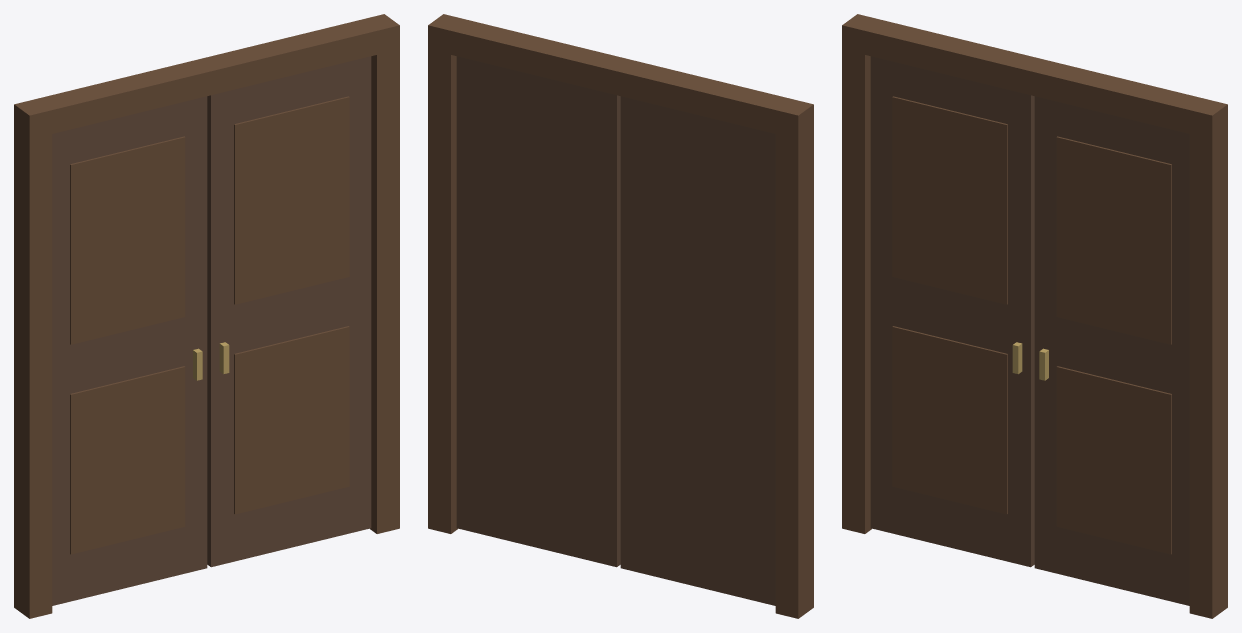
Rendered from door.glb.
3 views of the same model, side by side, from view 1: azimuth 30°, elevation 25°; view 2: azimuth 150°, elevation 25°; view 3: azimuth 330°, elevation 25° (orthographic).
Parts seen in each view (by area): view 1: DoorLeaf_R, DoorLeaf_L, DoorFrame; view 2: DoorLeaf_R, DoorLeaf_L, DoorFrame; view 3: DoorLeaf_L, DoorLeaf_R, DoorFrame.
Boxes of the visible parts, x1=… form: DoorLeaf_R: x1=207, y1=56, x2=371, y2=567; DoorLeaf_L: x1=52, y1=96, x2=207, y2=605; DoorFrame: x1=14, y1=14, x2=399, y2=618; DoorLeaf_R: x1=456, y1=56, x2=620, y2=567; DoorLeaf_L: x1=620, y1=96, x2=775, y2=605; DoorFrame: x1=428, y1=14, x2=813, y2=618; DoorLeaf_L: x1=870, y1=56, x2=1034, y2=567; DoorLeaf_R: x1=1034, y1=96, x2=1189, y2=605; DoorFrame: x1=842, y1=14, x2=1227, y2=618.
Bounding box in the file's own units: 1.94 × 2.52 × 0.14.
